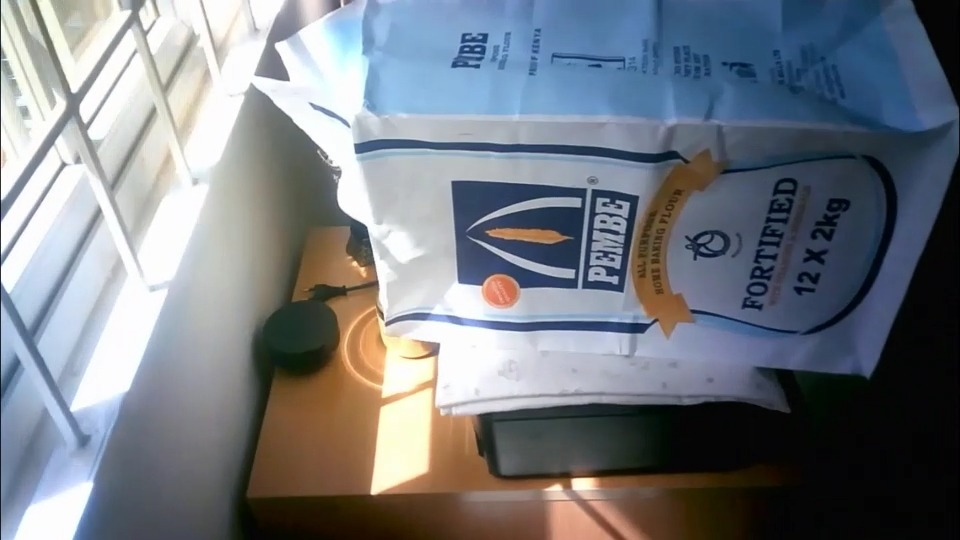wheat_flour_blue_label: (357, 2, 957, 377)
